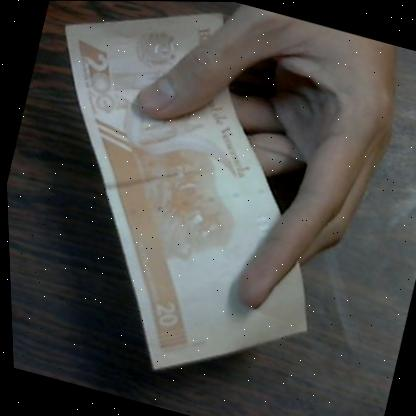twenty-back-vef: (0, 0, 385, 413)
